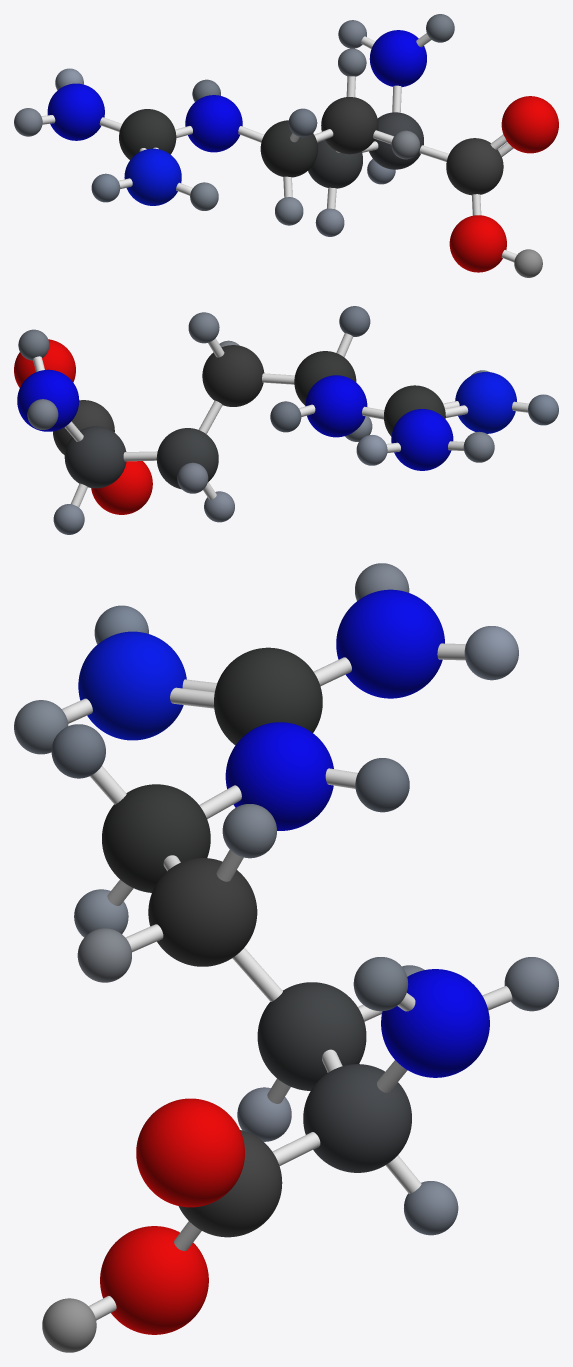
Rendered from arg.gltf.
3 renders of one model, top to bottom at view 1: azimuth 30°, elevation 25°; view 2: azimuth 150°, elevation 25°; view 3: azimuth 270°, elevation 25°, orthographic. The views are drawn at different scales.
Parts seen in each view (by area): view 1: Body4, Body12, Body3, Body1, Body10, Body8, Body11, Body6, Body7, Body9, Body5, Body2 (+14 smaller); view 2: Body6, Body2, Body10, Body8, Body11, Body5, Body1, Body12, Body7, Body9, Body4, Body3 (+16 smaller); view 3: Body4, Body10, Body12, Body11, Body6, Body2, Body1, Body5, Body8, Body7, Body9, Body3 (+16 smaller).
Boxes of the visible parts, box(x1,y1,x2,y2) form: Body4: box(501, 96, 558, 153); Body12: box(449, 215, 506, 272); Body3: box(446, 138, 503, 195); Body1: box(369, 30, 426, 86); Body10: box(47, 83, 104, 140); Body8: box(185, 95, 242, 152); Body11: box(124, 148, 181, 205); Body6: box(321, 97, 378, 154); Body7: box(260, 120, 317, 177); Body9: box(119, 109, 176, 159); Body5: box(308, 140, 362, 188); Body2: box(369, 112, 423, 169); Body6: box(202, 345, 264, 406); Body2: box(64, 426, 126, 488); Body10: box(391, 409, 453, 470); Body8: box(305, 375, 367, 437); Body11: box(455, 372, 516, 433); Body5: box(156, 428, 218, 489); Body1: box(17, 369, 79, 431); Body12: box(91, 461, 152, 514); Body7: box(294, 351, 356, 405); Body9: box(384, 385, 445, 436); Body4: box(14, 339, 75, 387); Body3: box(53, 400, 114, 455); Body4: box(136, 1098, 244, 1207); Body10: box(336, 589, 444, 698); Body12: box(100, 1226, 208, 1334); Body11: box(78, 631, 186, 740); Body6: box(148, 858, 257, 966); Body2: box(303, 1064, 411, 1172); Body1: box(381, 969, 489, 1077); Body5: box(257, 982, 366, 1090); Body8: box(225, 722, 333, 830); Body7: box(102, 784, 210, 892); Body9: box(214, 647, 322, 745); Body3: box(178, 1130, 282, 1237).
Bounding box in the file's own units: 5.37 × 2.37 × 2.73.
